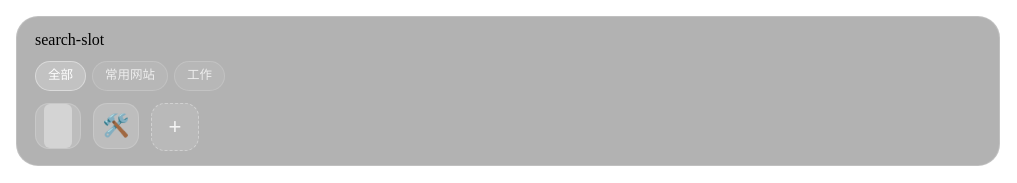
it: ShortcutDock › 多分组时显示筛选并可切换过滤
Expected: the element named "快捷方式分组筛选" shows "全部", [35,61,86,91]
选中「工作」分组：只剩该分组的快捷方式。
Click the button "工作".
click(200, 76)  # box [174,61,225,91]
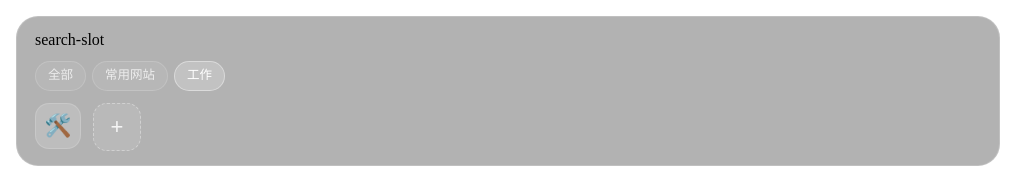
Expected: the link named "工作台" is shown, [35,103,81,149]
Expected: the link "后台管理" is gone
 回到「全部」。
Click the button "全部".
click(60, 76)  # box [35,61,86,91]
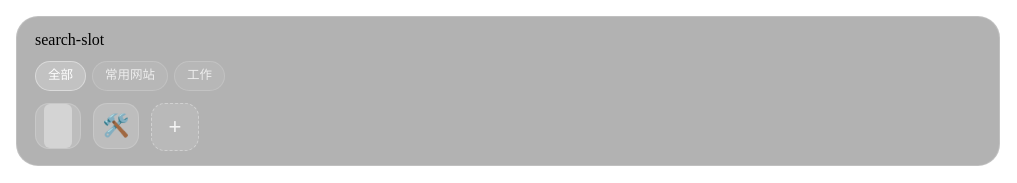
Expected: the link named "工作台" is shown, [93,103,139,149]
Expected: the link named "后台管理" is shown, [35,103,81,149]
